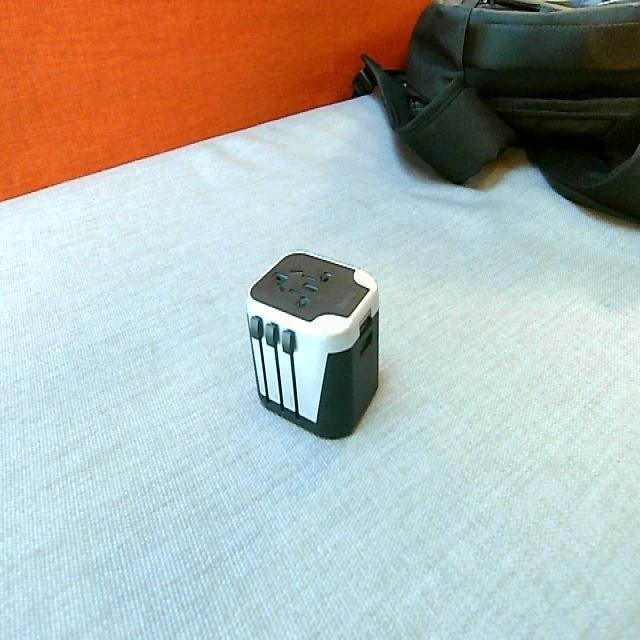adapter: (245, 248, 380, 439)
